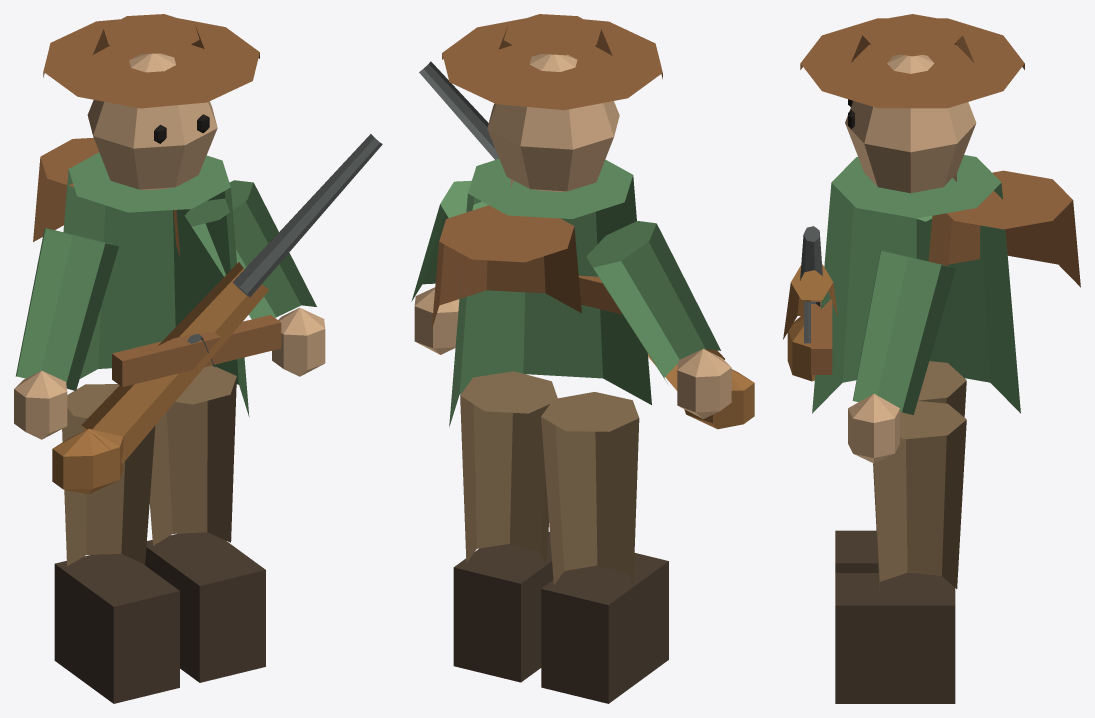
The model's file is hunter.glb.
3 renders of one model, left to right at view 1: azimuth 30°, elevation 25°; view 2: azimuth 150°, elevation 25°; view 3: azimuth 270°, elevation 25°, orthographic.
Visible parts, largest first — view 1: Hunter_Coat, Hunter_Boots, Hunter_Leather, Hunter_Trousers, Hunter_Skin, Rifle_Wood, Rifle_Metal; view 2: Hunter_Coat, Hunter_Trousers, Hunter_Leather, Hunter_Boots, Hunter_Skin, Rifle_Wood, Rifle_Metal; view 3: Hunter_Coat, Hunter_Leather, Hunter_Boots, Hunter_Trousers, Hunter_Skin, Rifle_Wood, Rifle_Metal.
Part boxes in pixels (x1,y1,x2,y2): Hunter_Coat: (15,152,316,416); Hunter_Boots: (54,532,265,703); Hunter_Leather: (33,14,281,386); Hunter_Trousers: (62,365,236,566); Hunter_Skin: (14,53,325,439); Rifle_Wood: (52,262,268,494); Rifle_Metal: (187,134,382,371); Hunter_Coat: (411,159,720,426); Hunter_Trousers: (460,371,639,585); Hunter_Leather: (431,14,662,329); Hunter_Boots: (453,531,668,703); Hunter_Skin: (414,54,731,418); Rifle_Wood: (648,349,754,429); Rifle_Metal: (419,61,498,159); Hunter_Coat: (812,155,1020,414); Hunter_Leather: (800,14,1080,374); Hunter_Boots: (835,530,955,703); Hunter_Trousers: (873,361,966,594); Hunter_Skin: (845,54,976,463); Rifle_Wood: (783,264,837,381); Rifle_Metal: (800,226,822,343).
Size of the model in its own units: 1 by 1.8 by 0.77.
